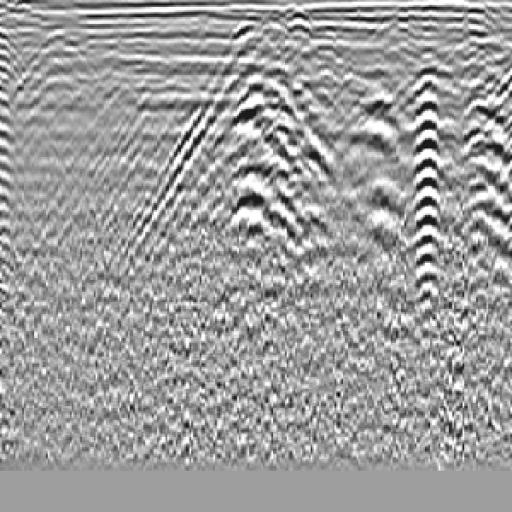metalic: (333, 62, 415, 173)
